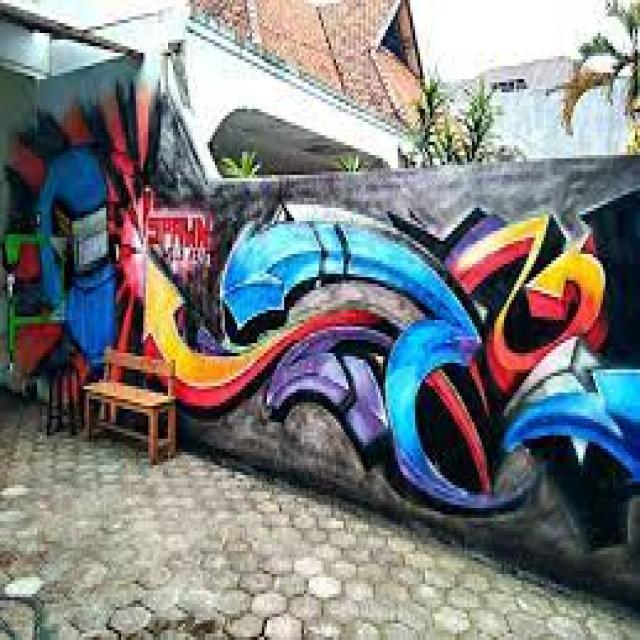-: (5, 79, 640, 554)
